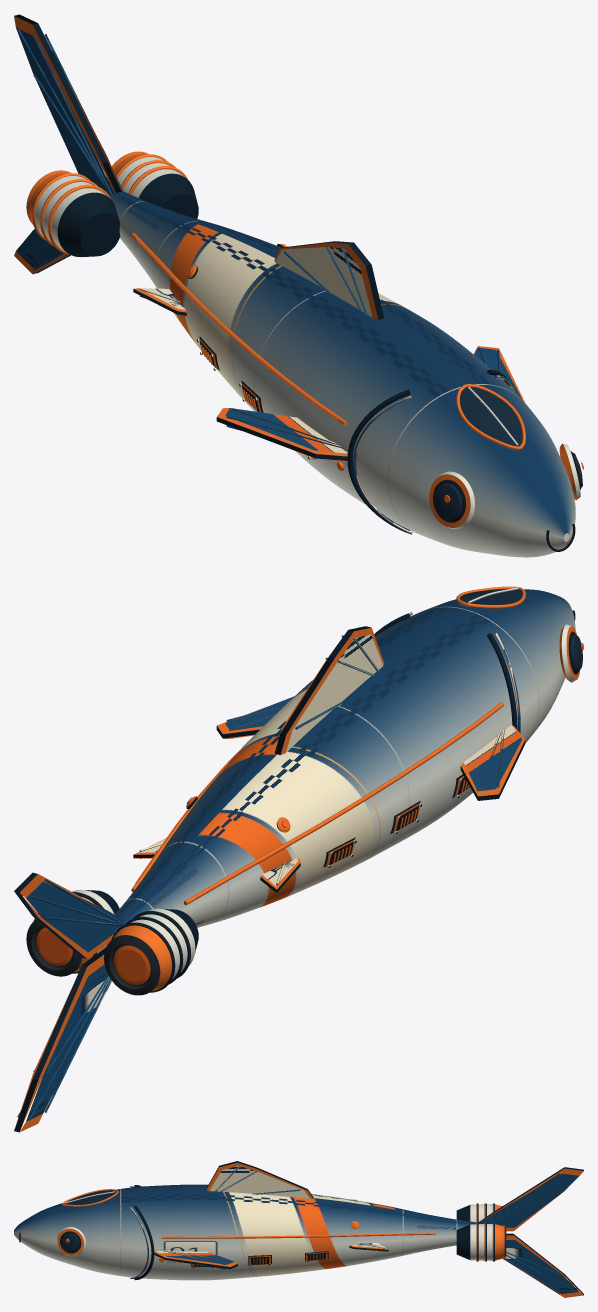
3 renders of one model, top to bottom at view 1: azimuth 30°, elevation 25°; view 2: azimuth 150°, elevation 25°; view 3: azimuth 270°, elevation 25°, orthographic. The views are drawn at different scales.
Visible parts, largest first — view 1: sardine_hull; view 2: sardine_hull; view 3: sardine_hull.
Part boxes in pixels (x1,y1,x2,y2): sardine_hull: [14, 14, 583, 557]; sardine_hull: [14, 586, 583, 1132]; sardine_hull: [14, 1161, 583, 1297].
Bounding box in the file's own units: 4.8 × 4.25 × 16.2.
Materials: 1 (1 with a texture image).
